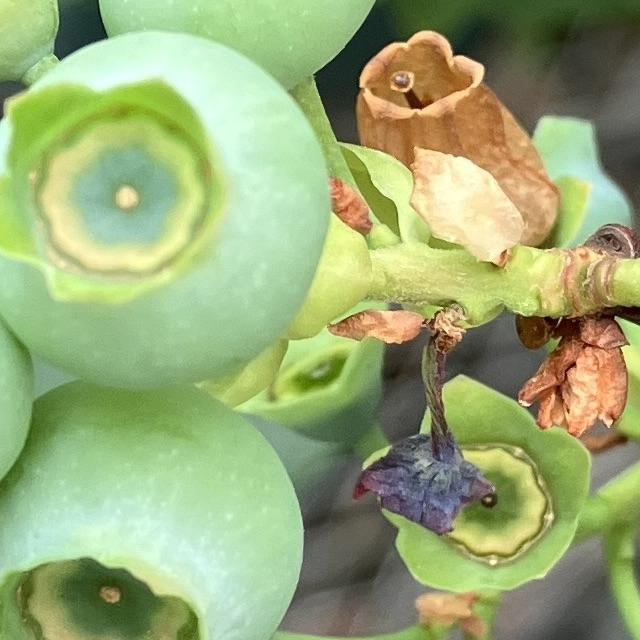Blueberries: (0, 25, 330, 391), (0, 383, 312, 640)
